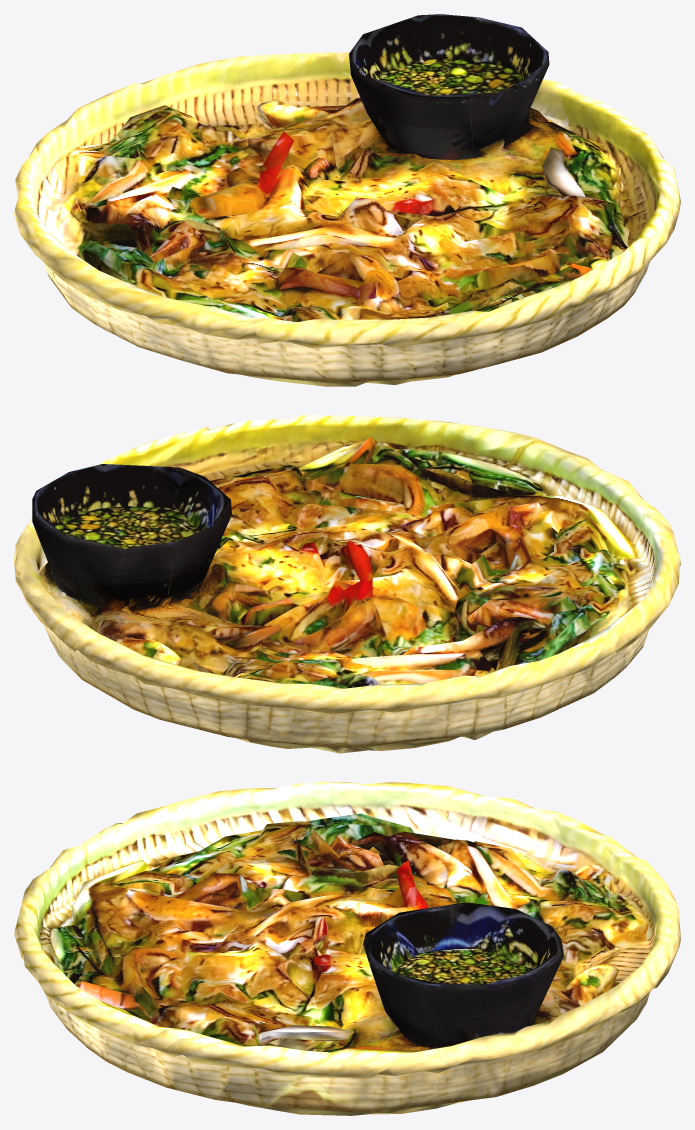
The model's file is food.fbx.
The picture shows the model from 3 angles, top to bottom: view 1: azimuth 30°, elevation 25°; view 2: azimuth 150°, elevation 25°; view 3: azimuth 270°, elevation 25°; orthographic projection.
Parts seen in each view (by area): view 1: Mesh_0; view 2: Mesh_0; view 3: Mesh_0.
Boxes of the visible parts, x1=… form: Mesh_0: x1=14, y1=14, x2=680, y2=386; Mesh_0: x1=14, y1=415, x2=680, y2=753; Mesh_0: x1=14, y1=782, x2=680, y2=1115.
Bounding box in the file's own units: 190 × 48.93 × 191.
1 material, 1 textured.
